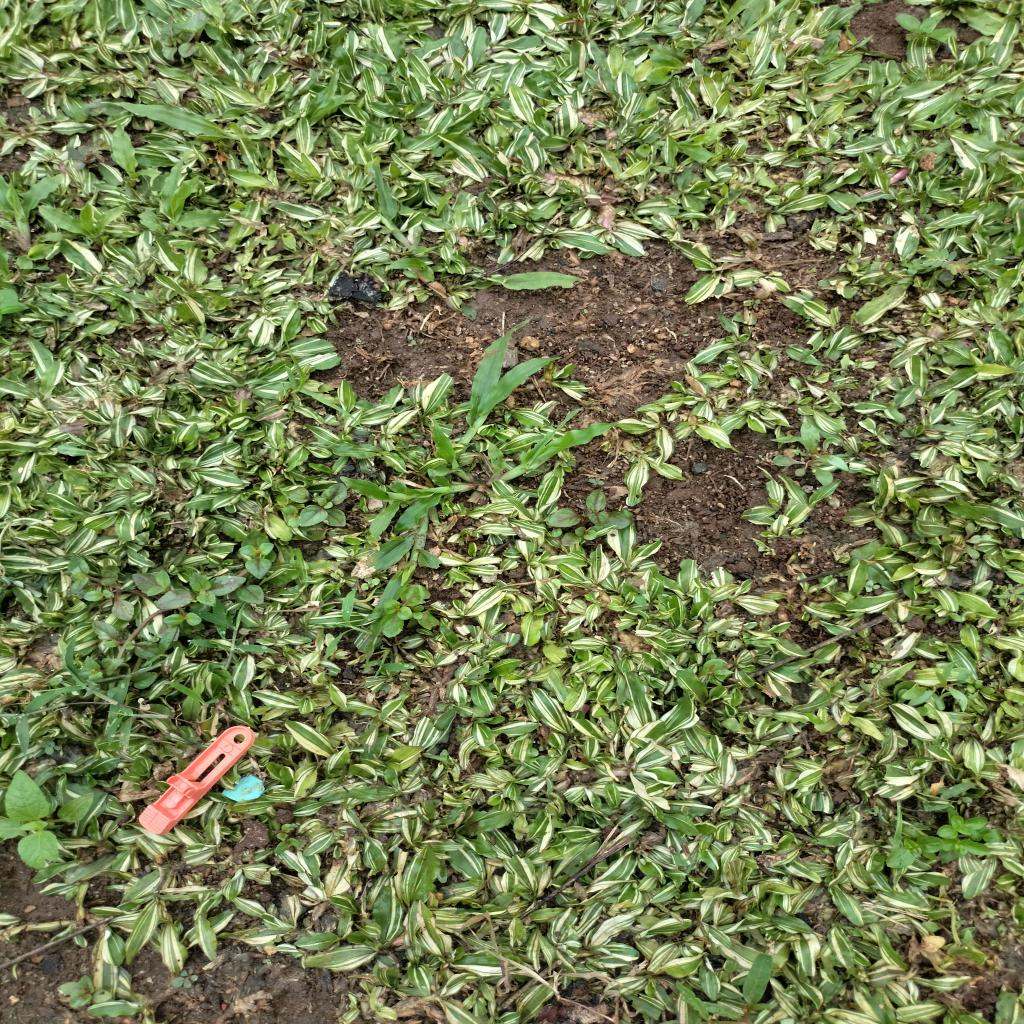bayi: (864, 579, 883, 592), (264, 936, 284, 948), (587, 476, 606, 488), (265, 956, 273, 966)
buah daun: (923, 246, 970, 278)
gingseng jawa: (774, 439, 848, 487)
rambat atas: (186, 601, 281, 655), (20, 672, 134, 716), (19, 697, 177, 723), (160, 678, 220, 720), (358, 646, 419, 679), (286, 362, 317, 406), (337, 608, 371, 638), (892, 800, 912, 849)
rambat bawah: (459, 317, 560, 445), (340, 472, 490, 534), (484, 438, 615, 490), (0, 170, 67, 270), (106, 100, 247, 142), (160, 154, 231, 234), (372, 161, 423, 250), (32, 204, 128, 250), (375, 534, 439, 602), (110, 114, 164, 182), (464, 266, 588, 294)
tunggang besar: (890, 8, 962, 46)
ungu tunggang: (67, 554, 266, 628), (549, 486, 638, 542), (381, 583, 439, 640), (286, 482, 352, 532), (237, 526, 279, 579), (60, 972, 114, 1010)
